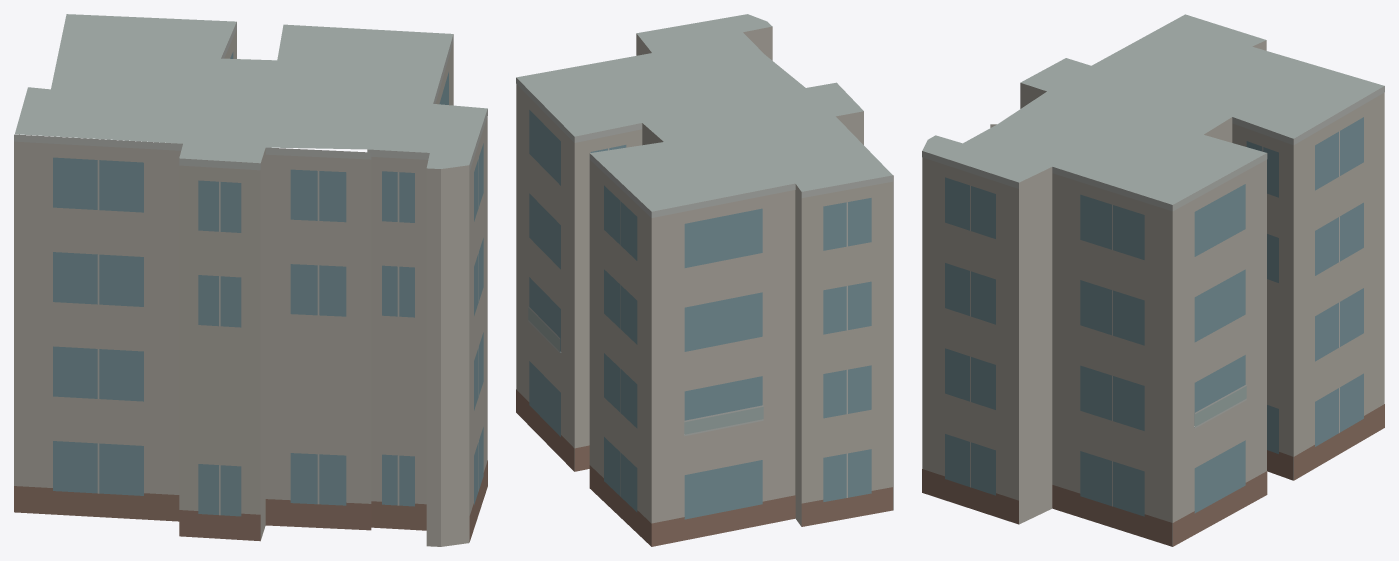
The model's file is survey-upis-32754908.glb.
The picture shows the model from 3 angles, left to right: view 1: azimuth 30°, elevation 25°; view 2: azimuth 150°, elevation 25°; view 3: azimuth 270°, elevation 25°; orthographic projection. The views are drawn at different scales.
Parts seen in each view (by area): view 1: survey-upis-32754908.tmp; view 2: survey-upis-32754908.tmp; view 3: survey-upis-32754908.tmp.
Part boxes in pixels (x1,y1,x2,y2): survey-upis-32754908.tmp: (14,14,487,546); survey-upis-32754908.tmp: (516,14,893,546); survey-upis-32754908.tmp: (922,14,1384,546).
Size of the model in its own units: 15.46 by 12.9 by 15.82.
